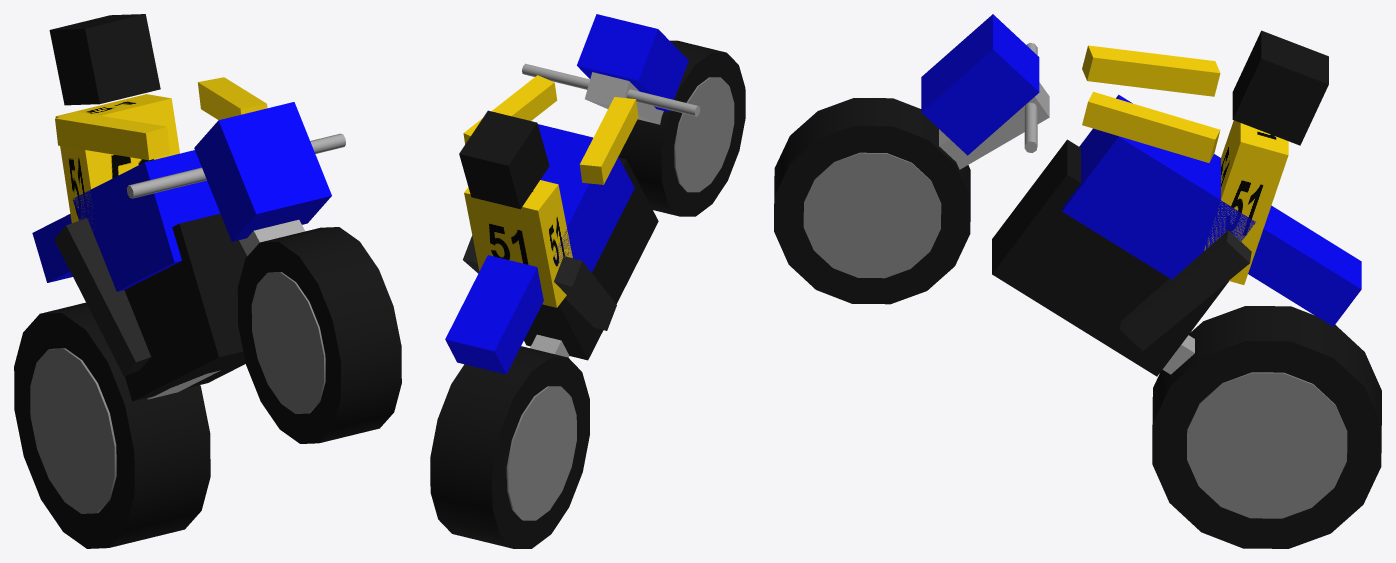
Rendered from wheelie_rider_51.gltf.
3 views of the same model, side by side, from view 1: azimuth 30°, elevation 25°; view 2: azimuth 150°, elevation 25°; view 3: azimuth 270°, elevation 25° (orthographic). The views are drawn at different scales.
Parts seen in each view (by area): view 1: BackWheel, FrontWheel, object 4, object 9, object 5, object 11, object 14, object 10, object 12, object 13, object 8, object 6 (+1 smaller); view 2: BackWheel, FrontWheel, object 6, object 10, object 5, object 4, object 11, object 9, object 12, object 14, object 13, object 8 (+2 smaller); view 3: BackWheel, FrontWheel, object 4, object 5, object 9, object 6, object 11, object 10, object 15, object 13, object 12, object 7 (+1 smaller).
Boxes of the visible parts, x1,y1,x2,y2 form: BackWheel: (14,302,210,548); FrontWheel: (237,227,401,443); object 4: (124,213,247,401); object 9: (194,102,331,241); object 5: (73,150,220,291); object 11: (49,14,160,105); object 14: (54,218,150,375); object 10: (55,94,179,223); object 12: (55,112,169,160); object 13: (197,77,267,119); object 8: (126,133,345,198); object 6: (32,214,72,282); BackWheel: (430,346,589,548); FrontWheel: (618,40,745,216); object 6: (445,255,543,374); object 10: (464,180,572,307); object 5: (538,124,634,272); object 4: (524,158,658,360); object 11: (459,110,549,209); object 9: (577,14,688,111); object 12: (579,97,638,184); object 14: (554,256,616,330); object 13: (463,75,557,144); object 8: (522,63,700,116); BackWheel: (1152,306,1381,548); FrontWheel: (774,98,970,304); object 4: (992,139,1228,376); object 5: (1062,94,1255,279); object 9: (921,14,1039,155); object 6: (1248,205,1361,326); object 11: (1232,30,1328,145); object 10: (1204,120,1288,284); object 15: (1119,230,1251,350); object 13: (1082,91,1220,162); object 12: (1082,45,1220,96); object 7: (939,82,1049,169).
Size of the model in its own units: 0.7 by 1.65 by 1.82.
Materials: 9 (1 with a texture image).
